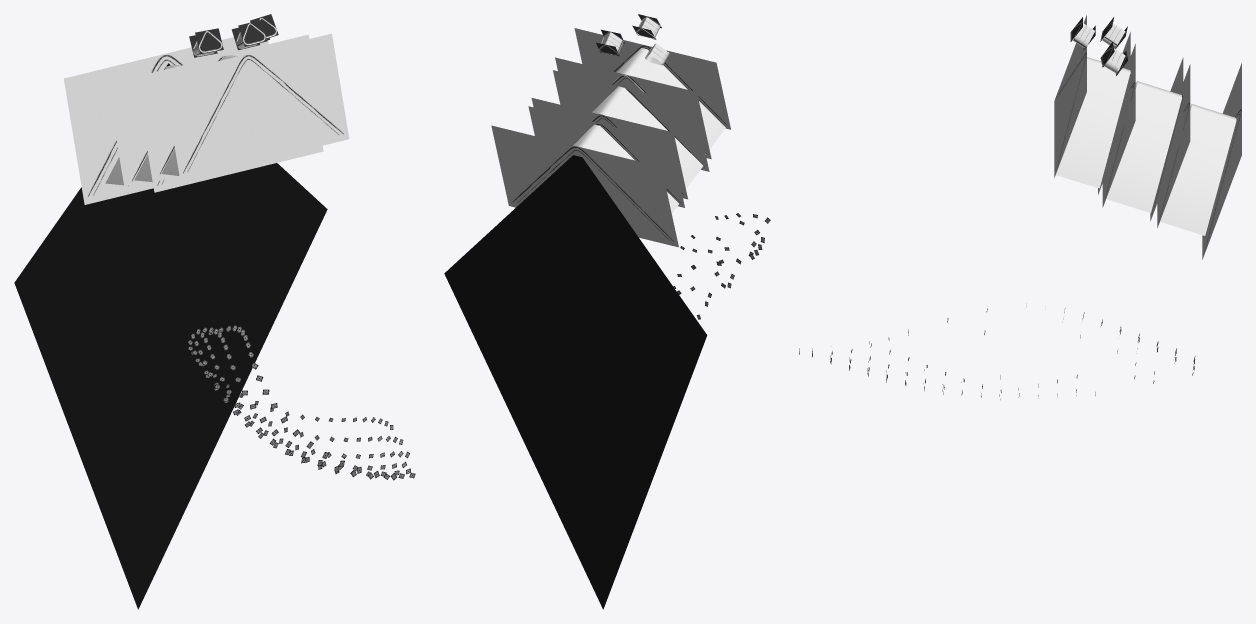
File: inizio6.dae
3 renders of one model, left to right at view 1: azimuth 30°, elevation 25°; view 2: azimuth 150°, elevation 25°; view 3: azimuth 270°, elevation 25°, orthographic. The views are drawn at different scales.
Visible parts, largest first — view 1: back, topgrande (×6), spirale, megapattern_top (×2); view 2: back, topgrande (×6), no_alpha (×3), spirale; view 3: no_alpha (×3), topgrande (×6).
Boxes of the visible parts, bbox=[...] form: back: bbox=[14, 63, 327, 609]; topgrande (×6): bbox=[64, 33, 349, 204]; spirale: bbox=[187, 324, 415, 480]; megapattern_top (×2): bbox=[195, 20, 266, 54]; back: bbox=[444, 155, 707, 609]; topgrande (×6): bbox=[491, 28, 730, 247]; no_alpha (×3): bbox=[573, 48, 725, 213]; spirale: bbox=[673, 213, 770, 319]; no_alpha (×3): bbox=[1056, 57, 1236, 235]; topgrande (×6): bbox=[1054, 15, 1241, 259].
Bounding box in the file's own units: 523 × 1020 × 680.
Materials: 7 (7 with a texture image).
